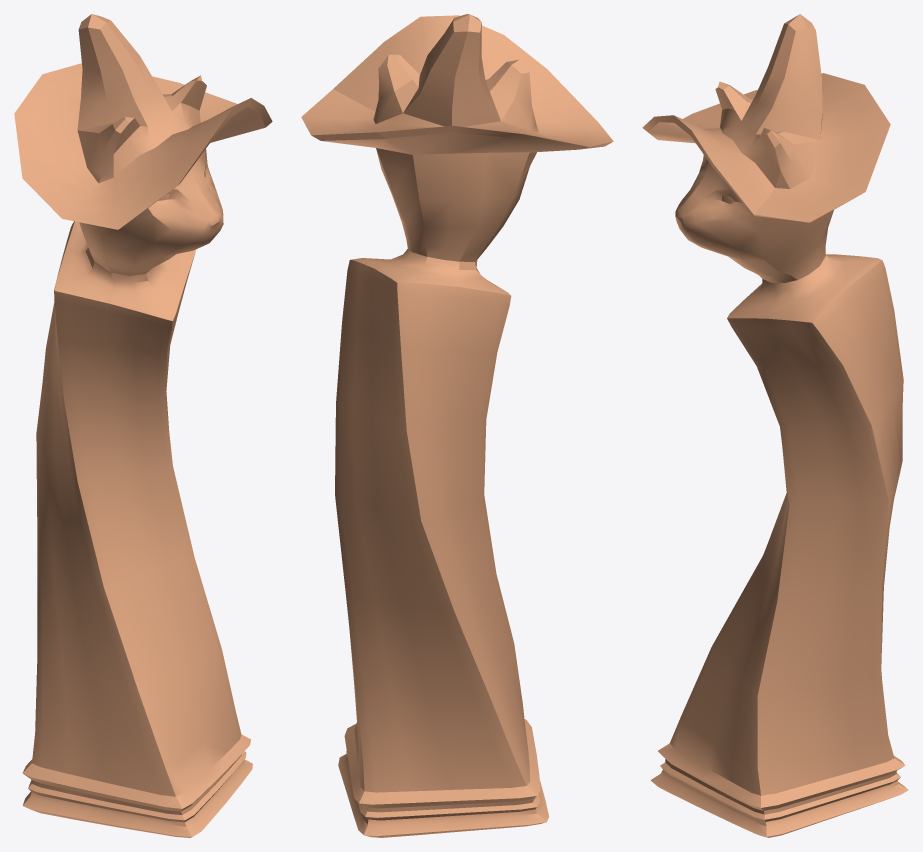
Rendered from Gato.fbx.
3 renders of one model, left to right at view 1: azimuth 30°, elevation 25°; view 2: azimuth 150°, elevation 25°; view 3: azimuth 270°, elevation 25°, orthographic. The views are drawn at different scales.
Visible parts, largest first — view 1: Necromancer.004; view 2: Necromancer.004; view 3: Necromancer.004.
Boxes of the visible parts, left/top/right/bottom form: Necromancer.004: left=14, top=14, right=272, bottom=837; Necromancer.004: left=301, top=14, right=613, bottom=837; Necromancer.004: left=642, top=14, right=908, bottom=837.
Size of the model in its own units: 97.26 by 287 by 90.85.
